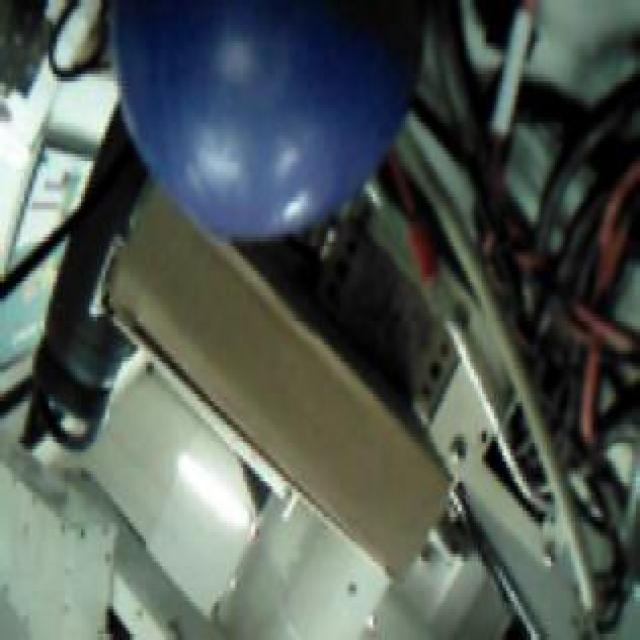BallPurple: (105, 2, 428, 240)
